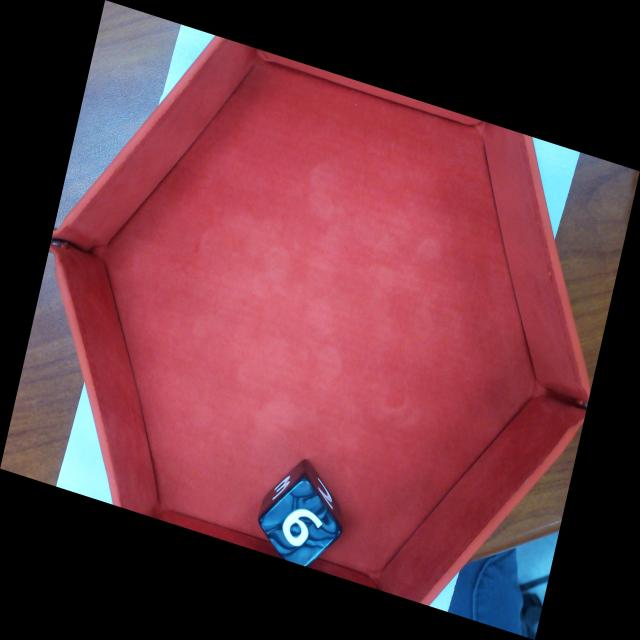dice: (265, 484, 339, 565)
